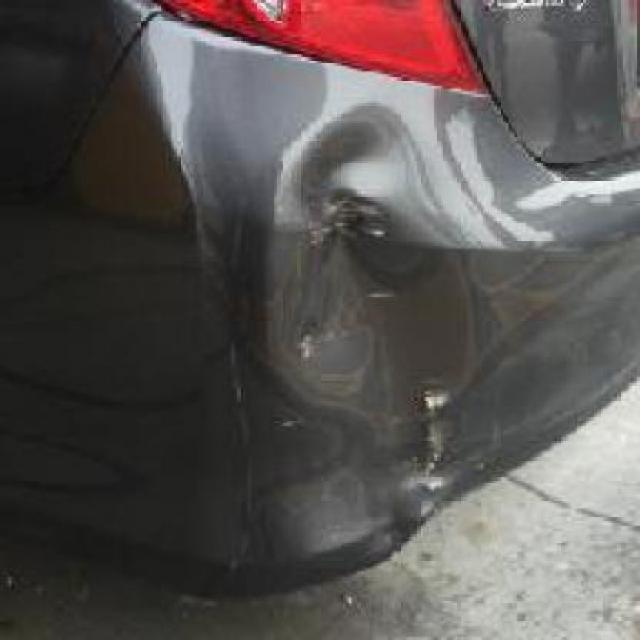dent-or-scratch: (260, 112, 474, 531)
